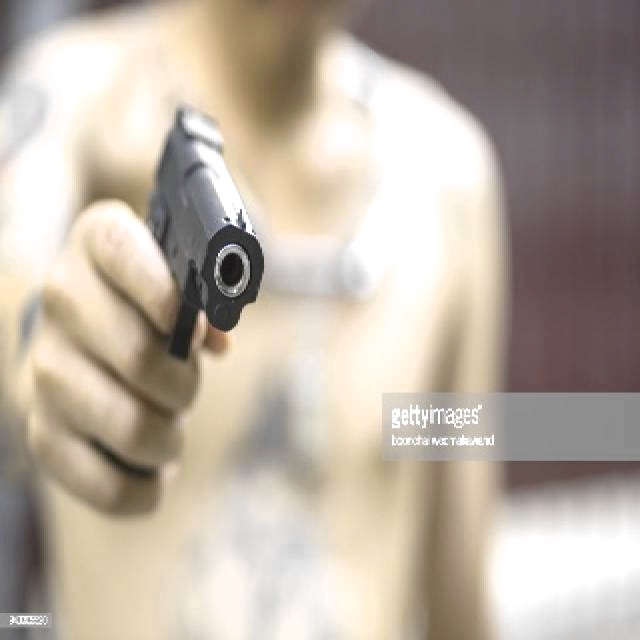gun: (142, 101, 272, 358)
